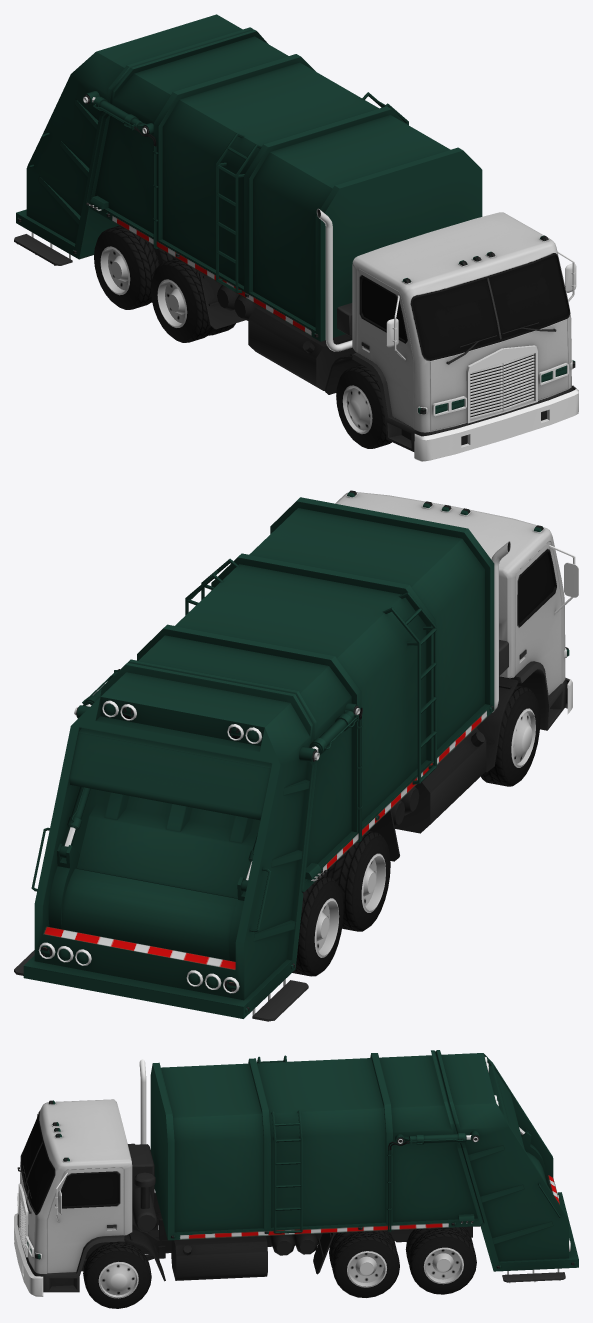
Rendered from truck2.glb.
3 renders of one model, top to bottom at view 1: azimuth 30°, elevation 25°; view 2: azimuth 150°, elevation 25°; view 3: azimuth 270°, elevation 25°, orthographic. The views are drawn at different scales.
Parts seen in each view (by area): view 1: Object_3, Object_2, Object_4; view 2: Object_3, Object_4, Object_2; view 3: Object_3, Object_2.
Part boxes in pixels (<box>): Object_3: <box>14,14,578,461</box>; Object_2: <box>362,255,568,358</box>; Object_4: <box>17,212,575,414</box>; Object_3: <box>14,492,578,1021</box>; Object_4: <box>40,490,569,1012</box>; Object_2: <box>518,552,554,623</box>; Object_3: <box>14,1050,578,1308</box>; Object_2: <box>21,1116,118,1212</box>.
Size of the model in its own units: 16.88 by 14.35 by 39.46.
3 materials, 3 textured.
